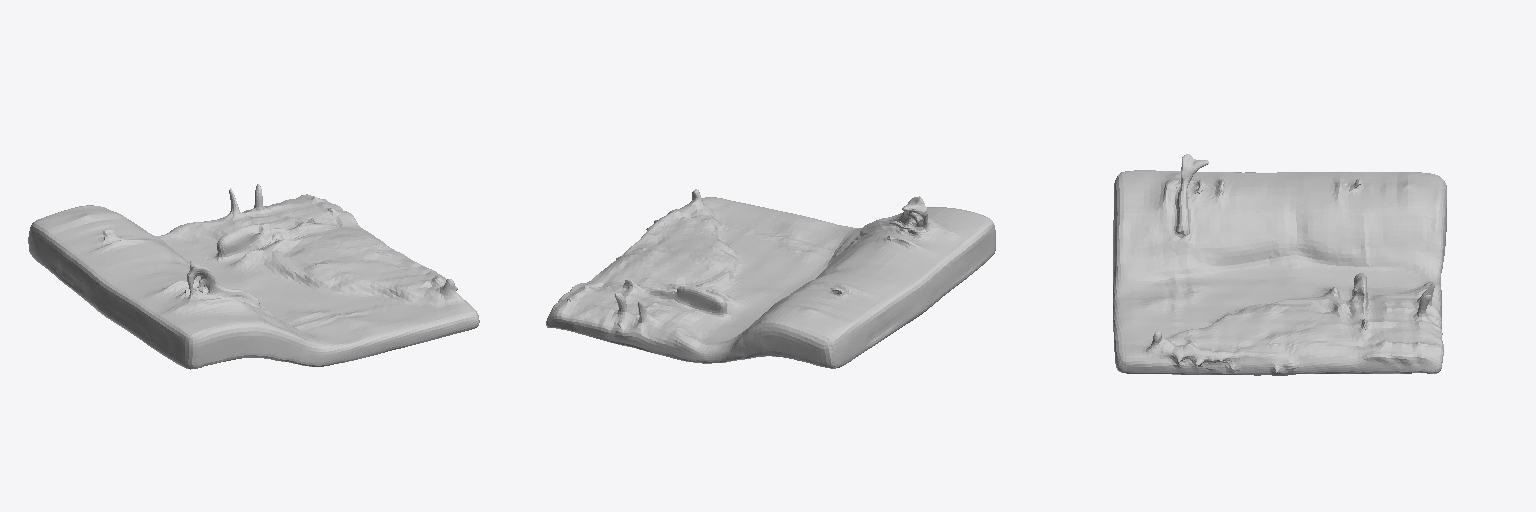
Rendered from c5ac43ada3ca_A_swampy_water_stre.obj.
3 views of the same model, side by side, from view 1: azimuth 30°, elevation 25°; view 2: azimuth 150°, elevation 25°; view 3: azimuth 270°, elevation 25° (orthographic).
Visible parts, largest first — view 1: mesh; view 2: mesh; view 3: mesh.
Boxes of the visible parts, box(x1,y1,x2,y2) form: mesh: box(28, 184, 479, 369); mesh: box(546, 189, 995, 368); mesh: box(1113, 154, 1446, 375).
Bounding box in the file's own units: 0.996 × 0.3074 × 0.9308.